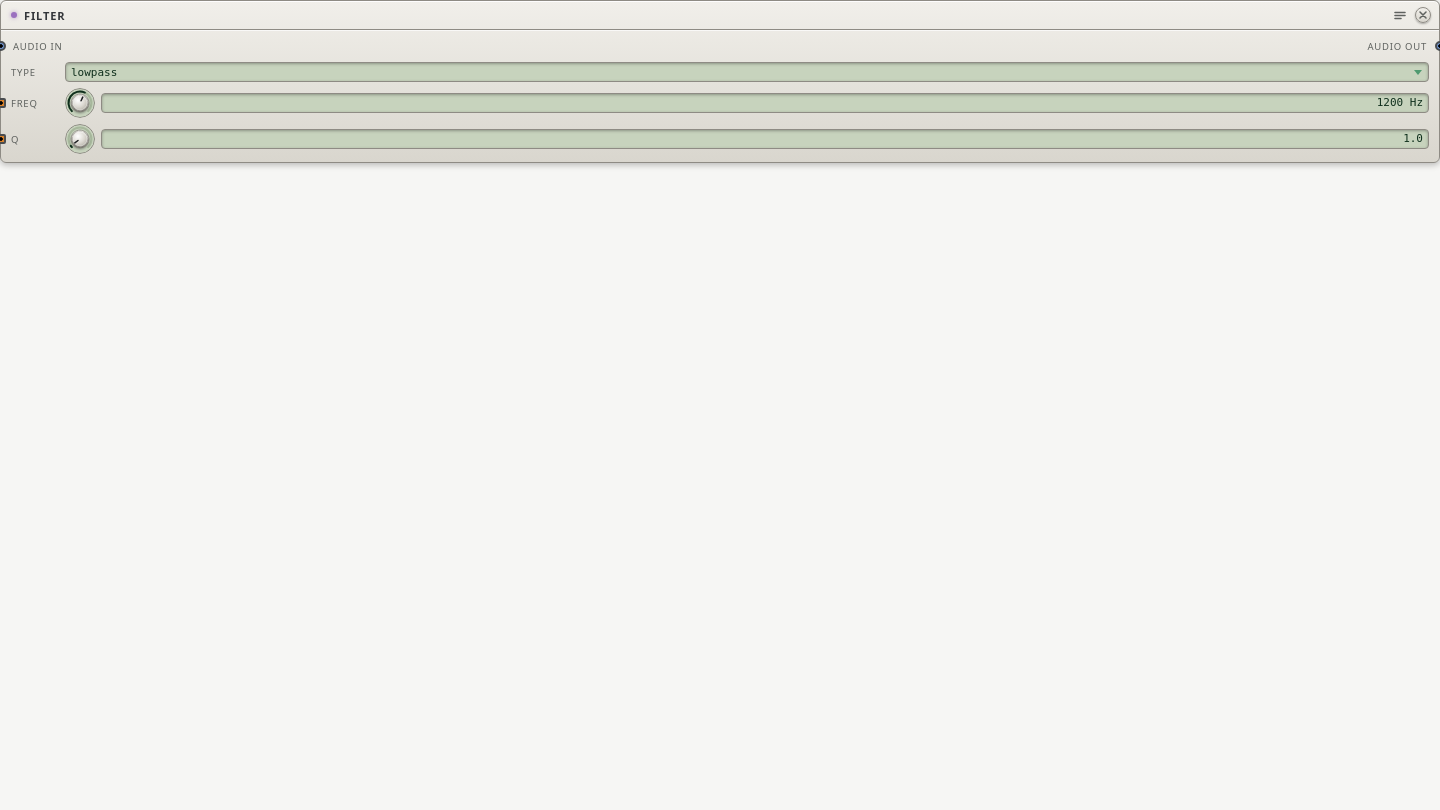
PresetMenu › saves the settings of the node under a name, with the name field focused
Click the button named "Presets of Filter" at {"x": 1400, "y": 15}, box [1392,7,1408,23]
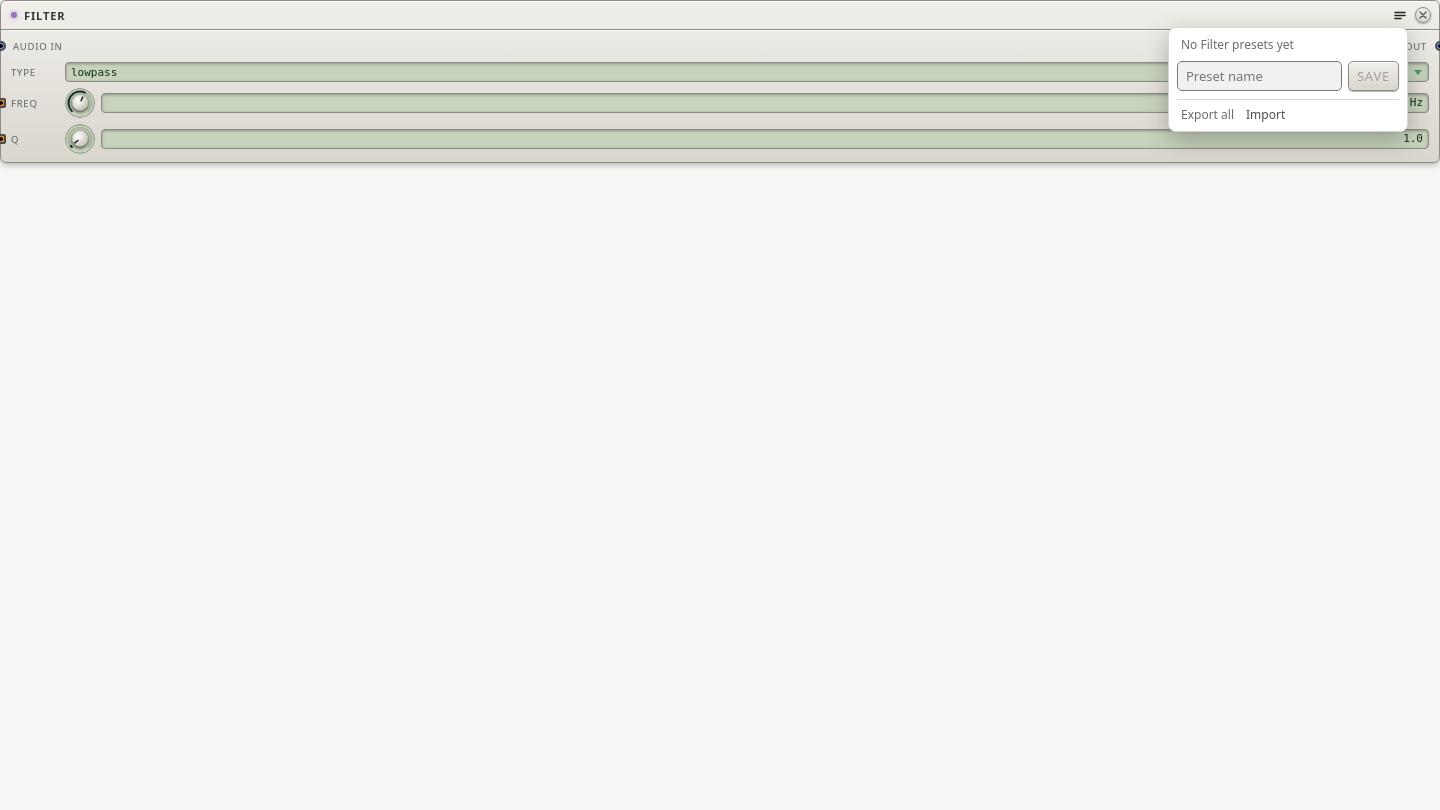
expect the text "No Filter presets yet" is shown: met, box [1181,36,1294,53]
Type keys "Dark{Enter}"
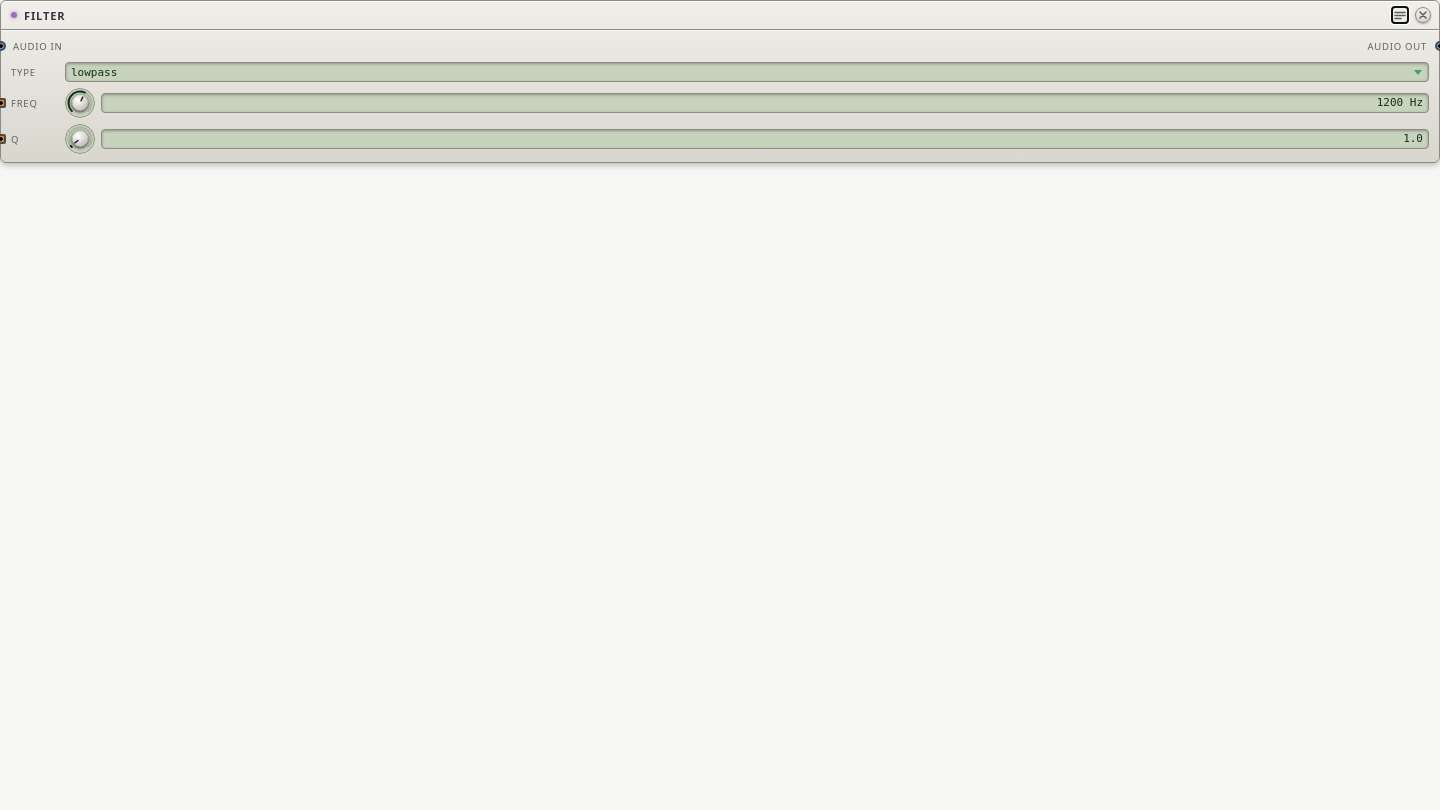
expect the dialog is gone: met
